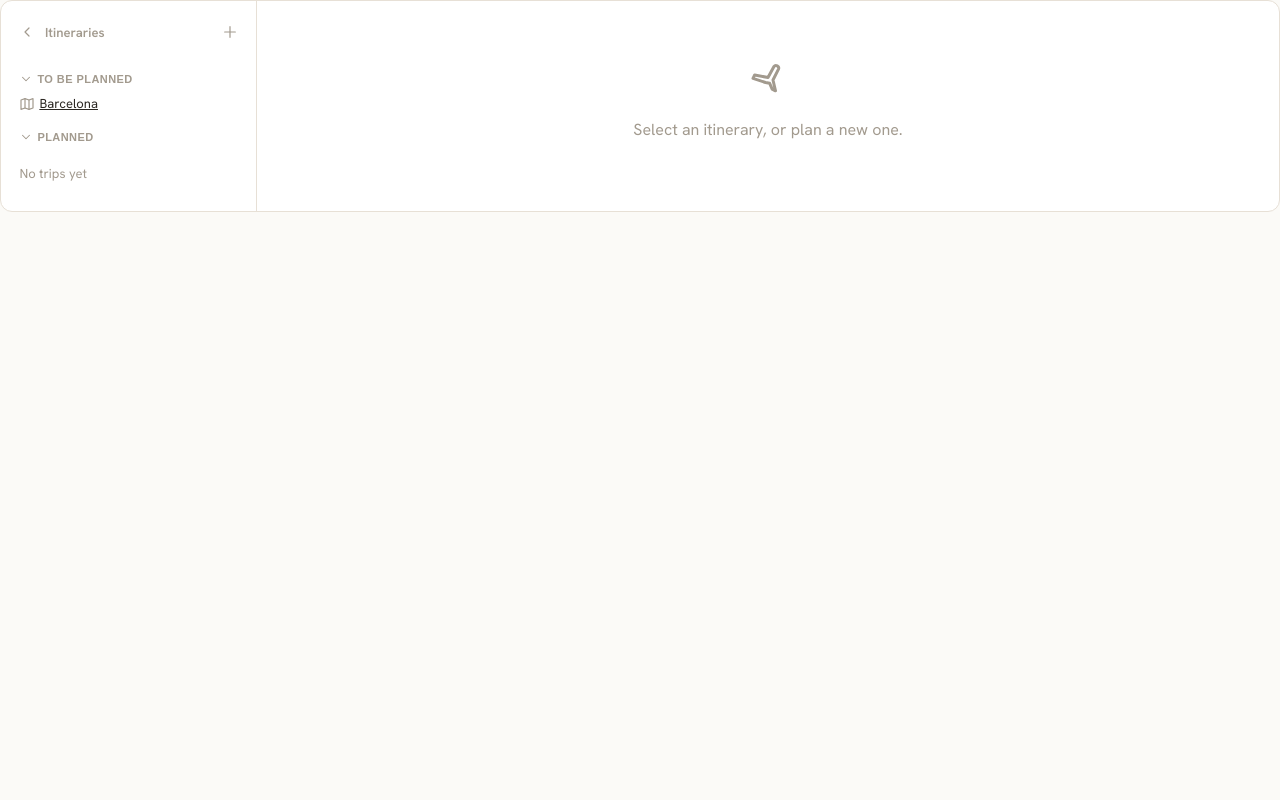
Scenario: ItineraryPage › opens the new-itinerary modal
Click the button named "New itinerary" at (230, 32), box [216, 18, 244, 46]
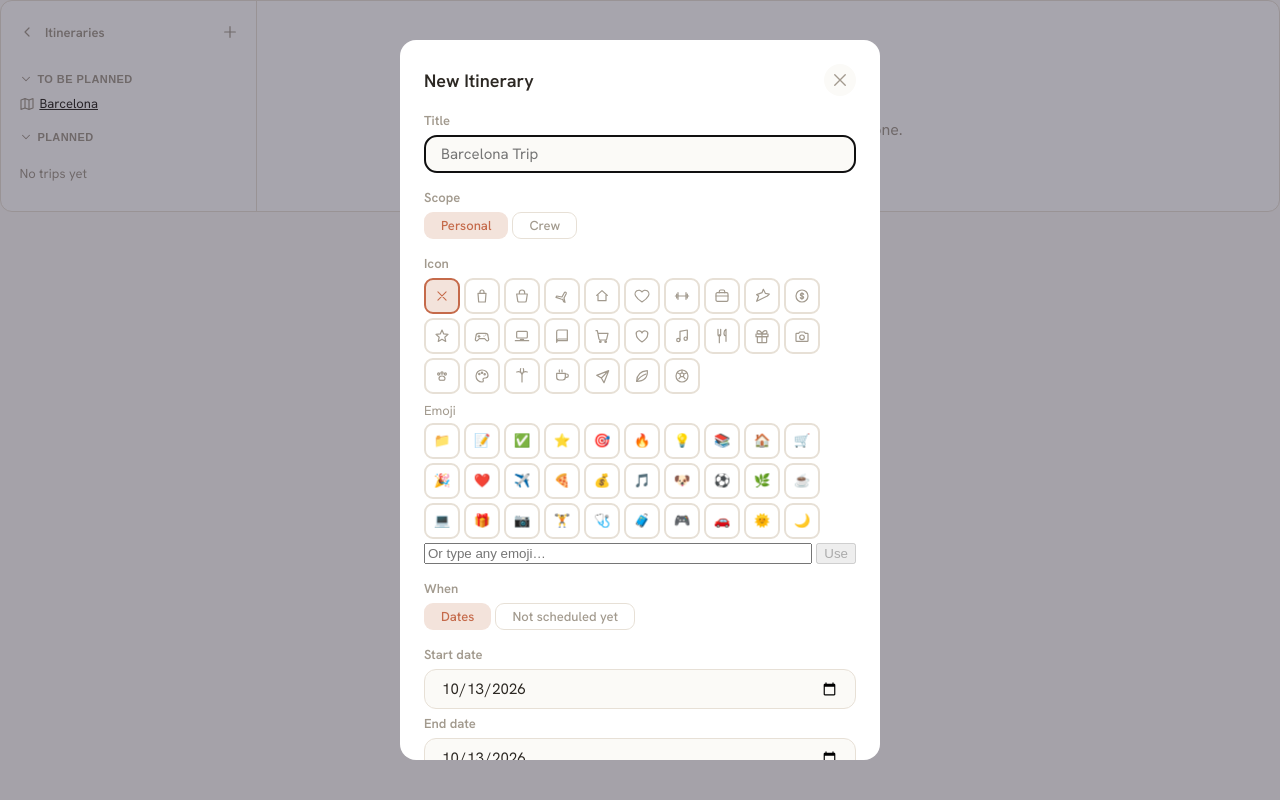
Check: the heading "New Itinerary" is shown, box [424, 68, 534, 92]
